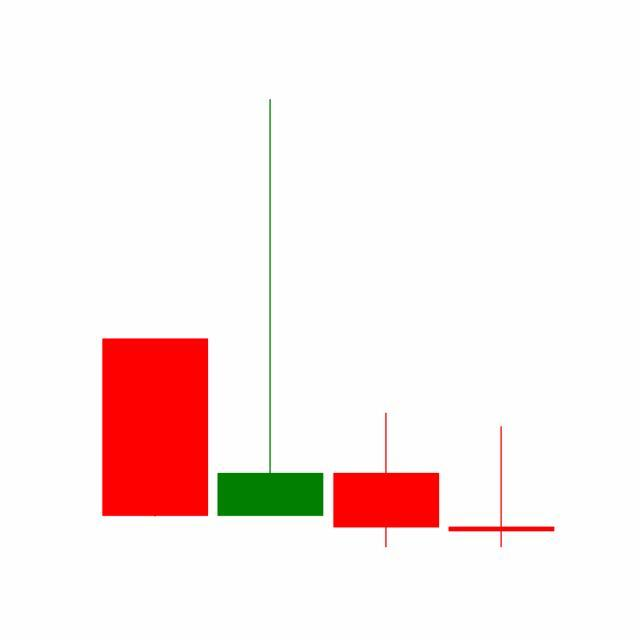Spinning Top: (444, 425, 560, 550)
